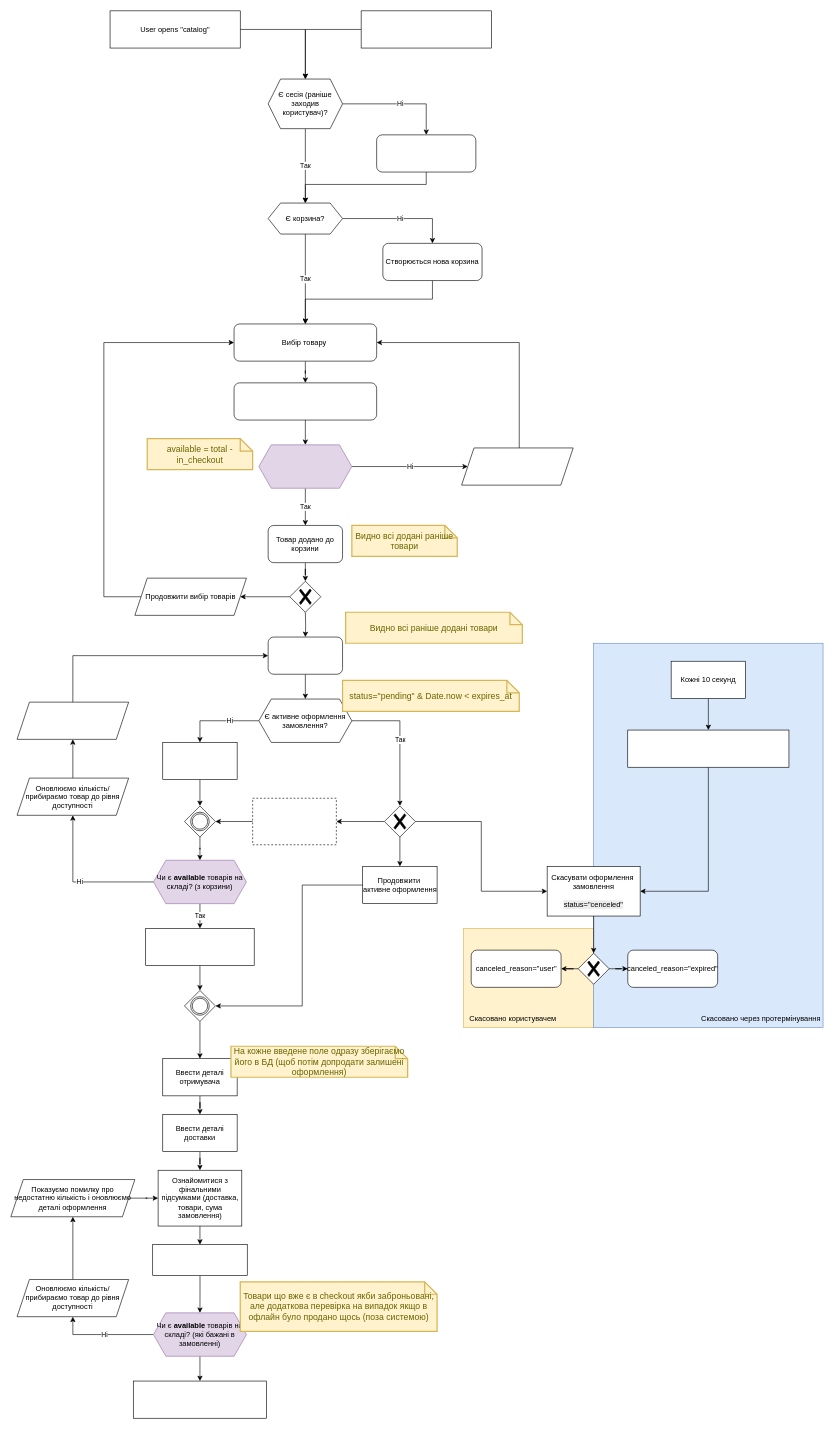
Some shapes in this 834 by 1429 pixel diagram are drawn without their labels. The centre of each missing label's shape, as x and y in pixels:
checkout.status="completed" order.status="new": pixel 200 1399
checkout.status="pending" order.status="draft": pixel 199 947
User opens "feed": pixel 426 29
Відкрити корзину: pixel 305 655
Отримати всі оформлення status="pending" & expires_at < Date.now: pixel 708 748
Оформлити замовлення: pixel 199 761
Показуємо помилку про недостатню кількість: pixel 517 466
Показуємо помилку про недостатню кількість і оновлюємо деталі корзини: pixel 72 720
Продовжити активне оформлення з додаванням товарів з корзини: pixel 294 821
Підтвердити оформлення: pixel 199 1260
Спроба додати товари у корзину: pixel 305 401
Створюємо нову сесію: pixel 426 153
Чи є available кількість товарів на складі?: pixel 305 466
